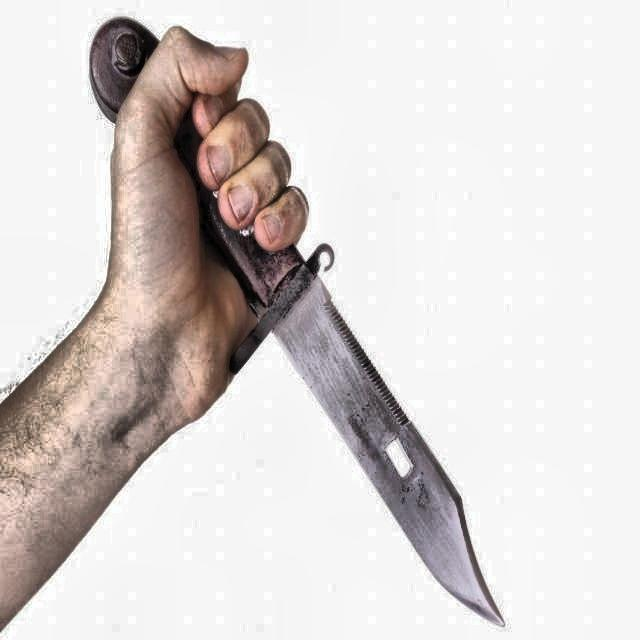knife: (89, 15, 504, 628)
